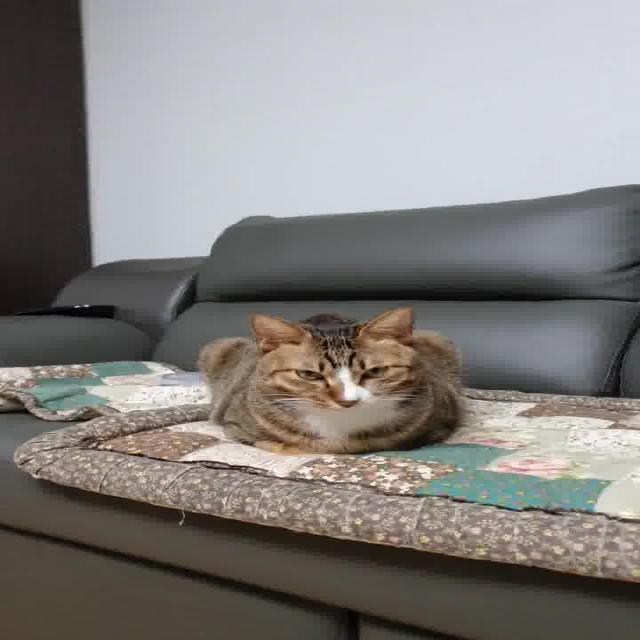cat: (170, 304, 504, 464)
